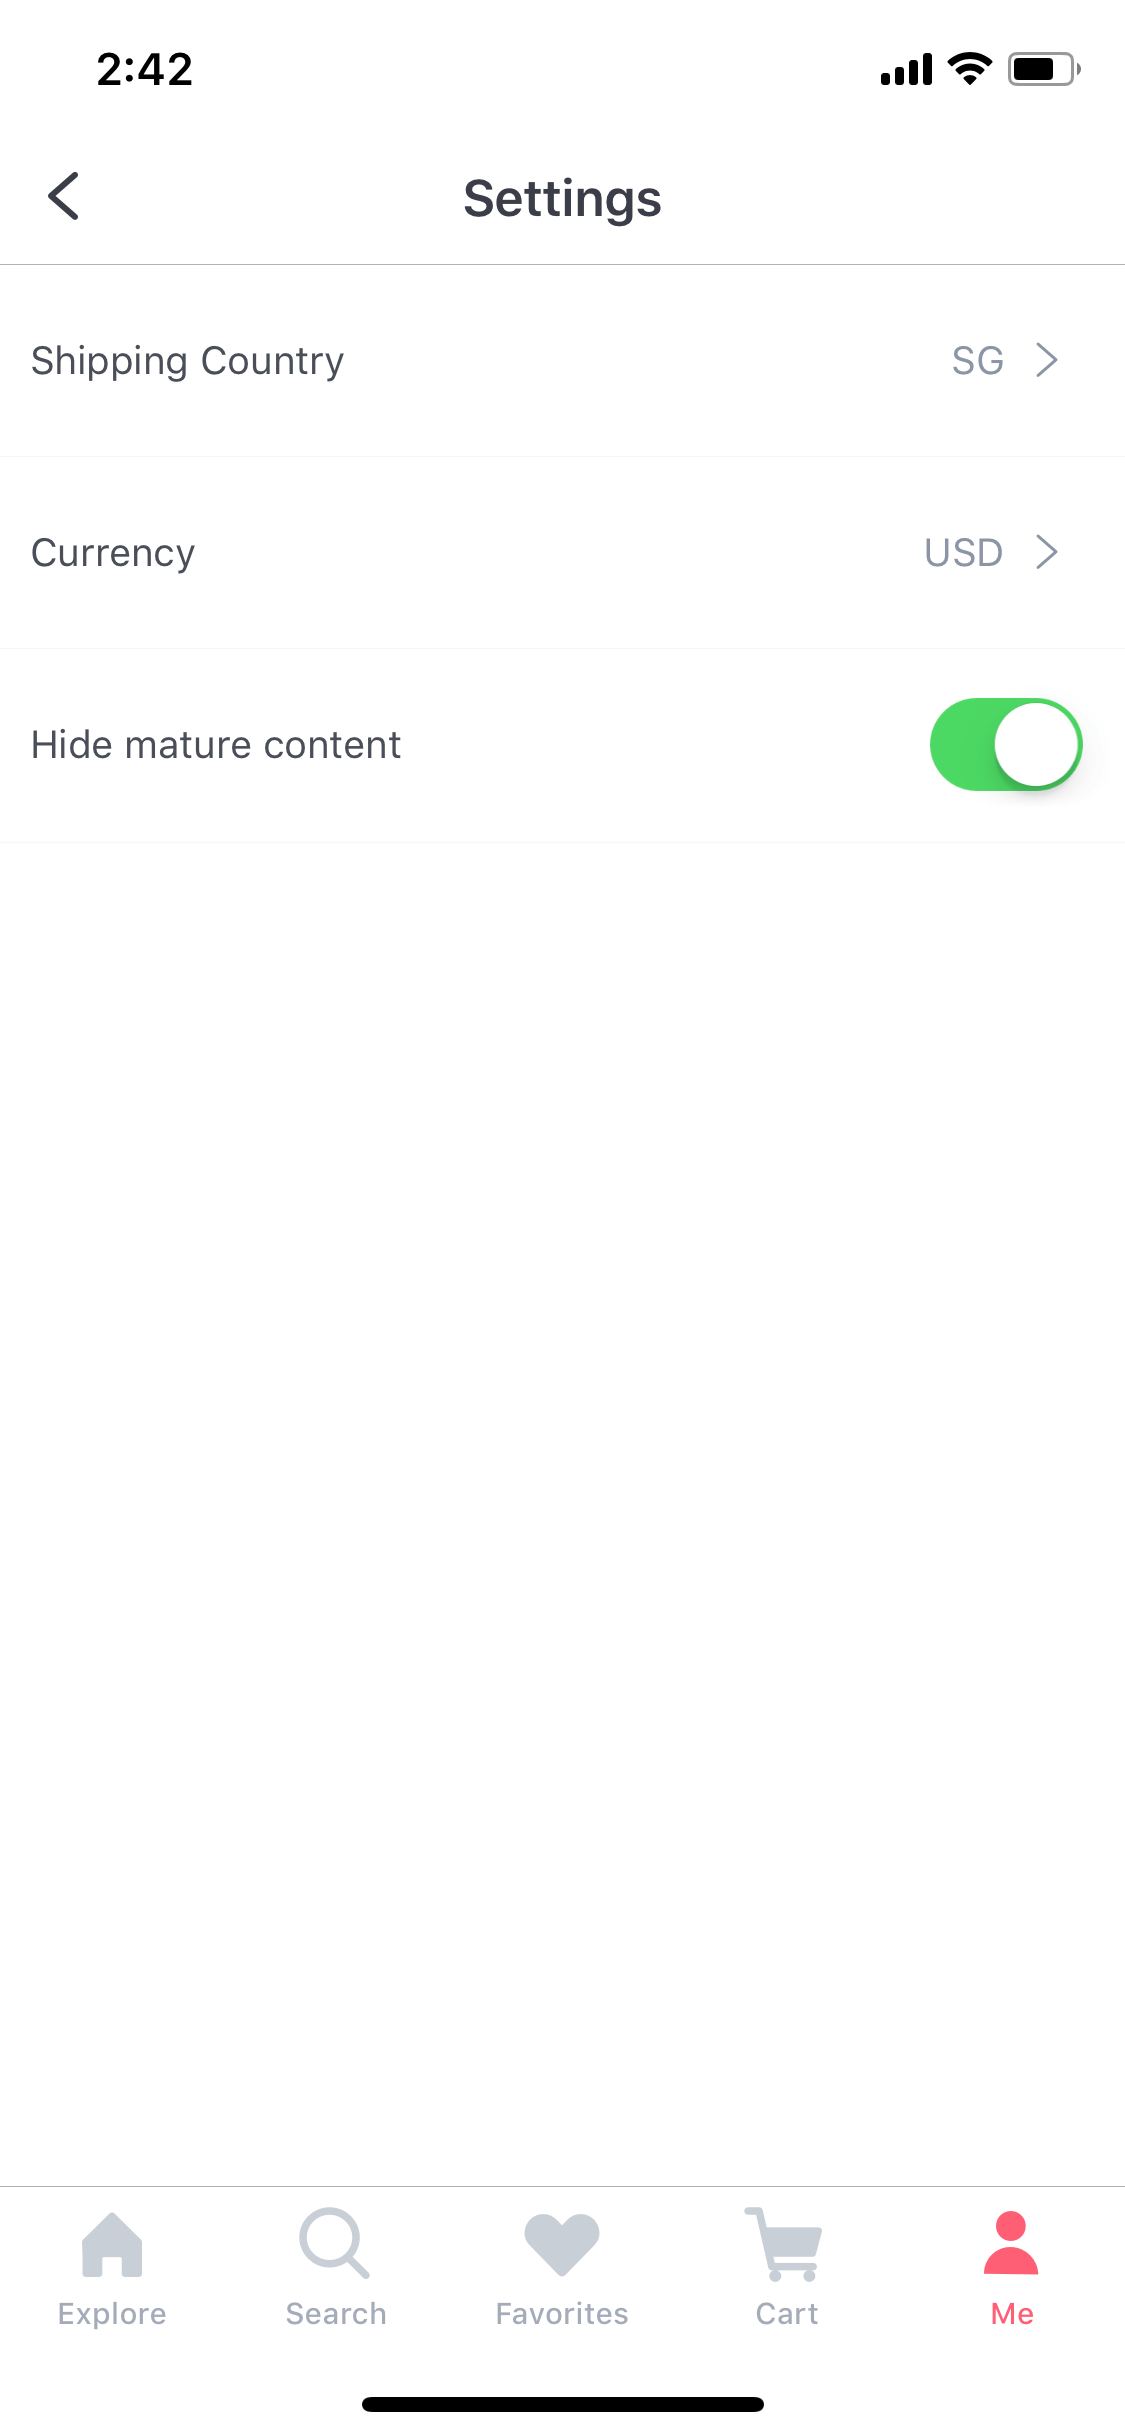Buttons: (9, 127, 134, 253)
Switches: (904, 688, 1095, 803)
